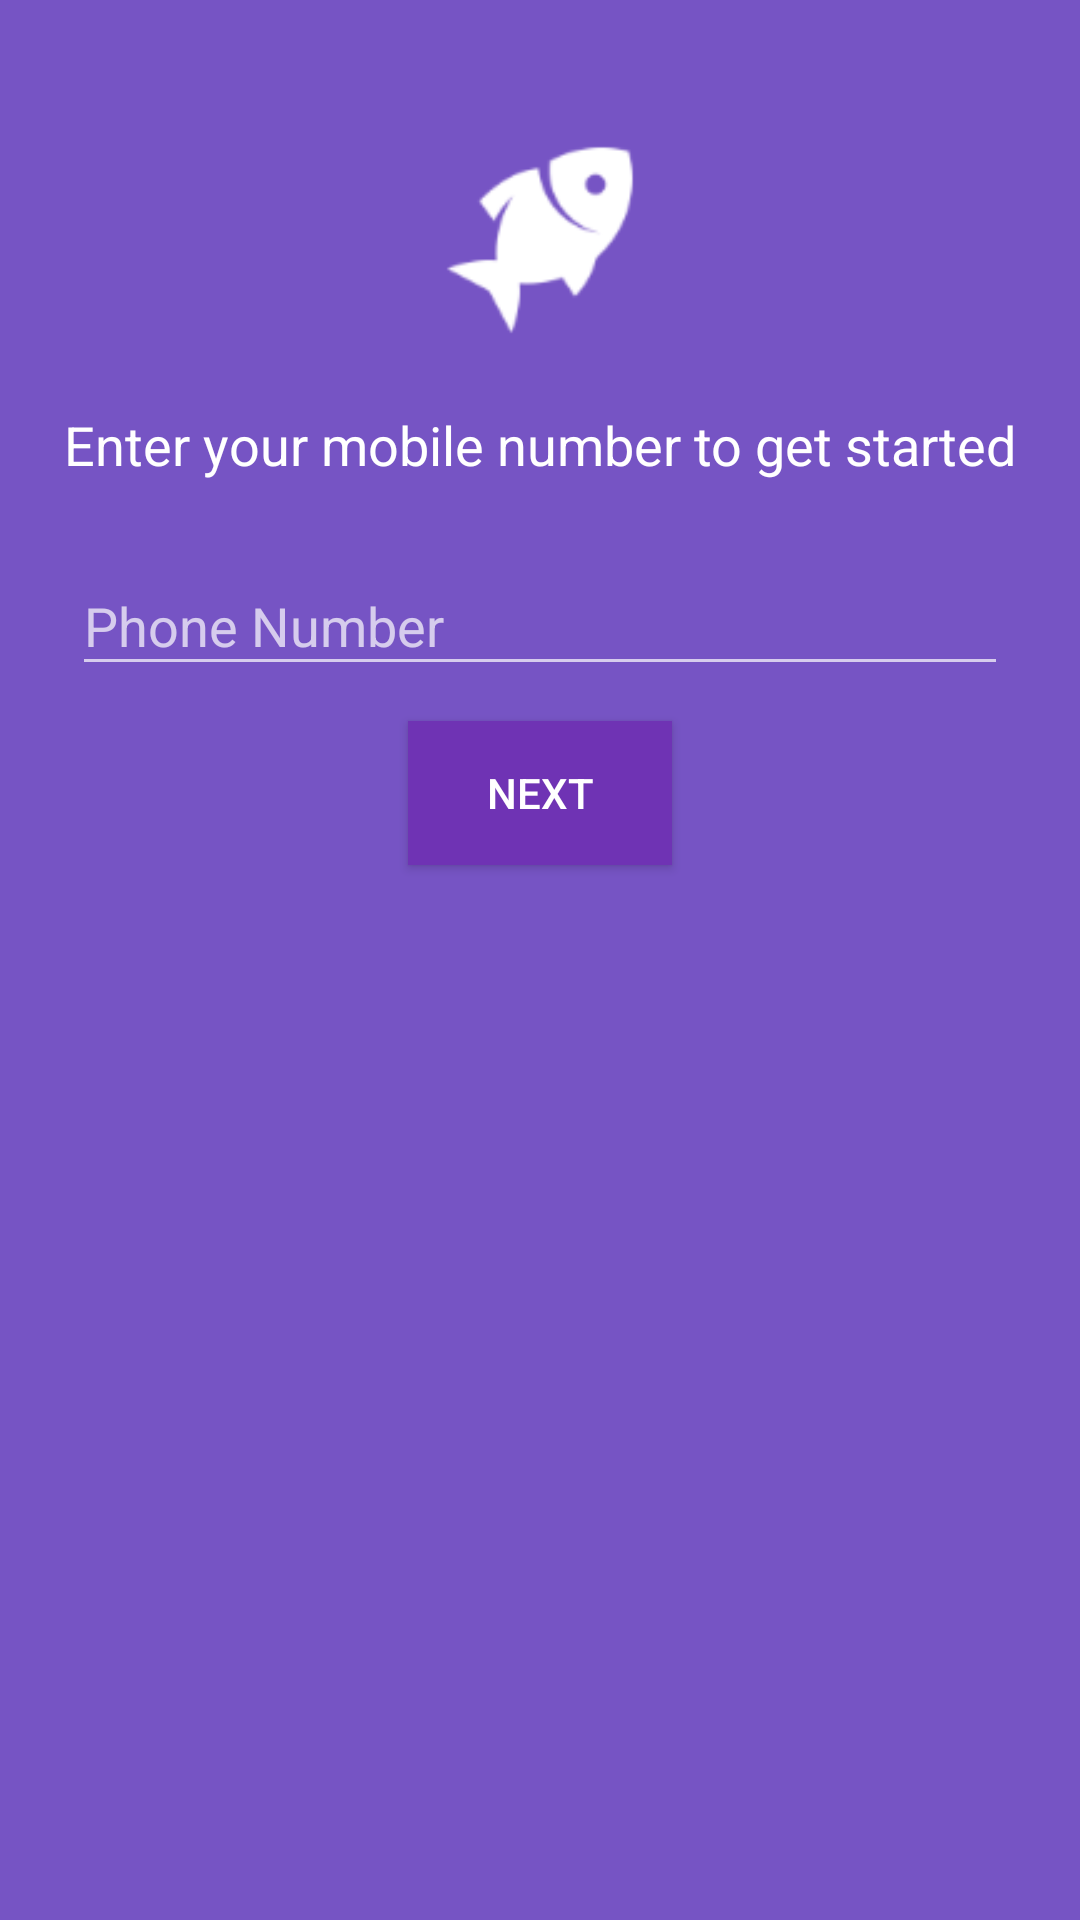

Screen size 1080 x 1920. Icon name, then its center in pixels as (x=x, y=y):
fish: (x=540, y=240)
